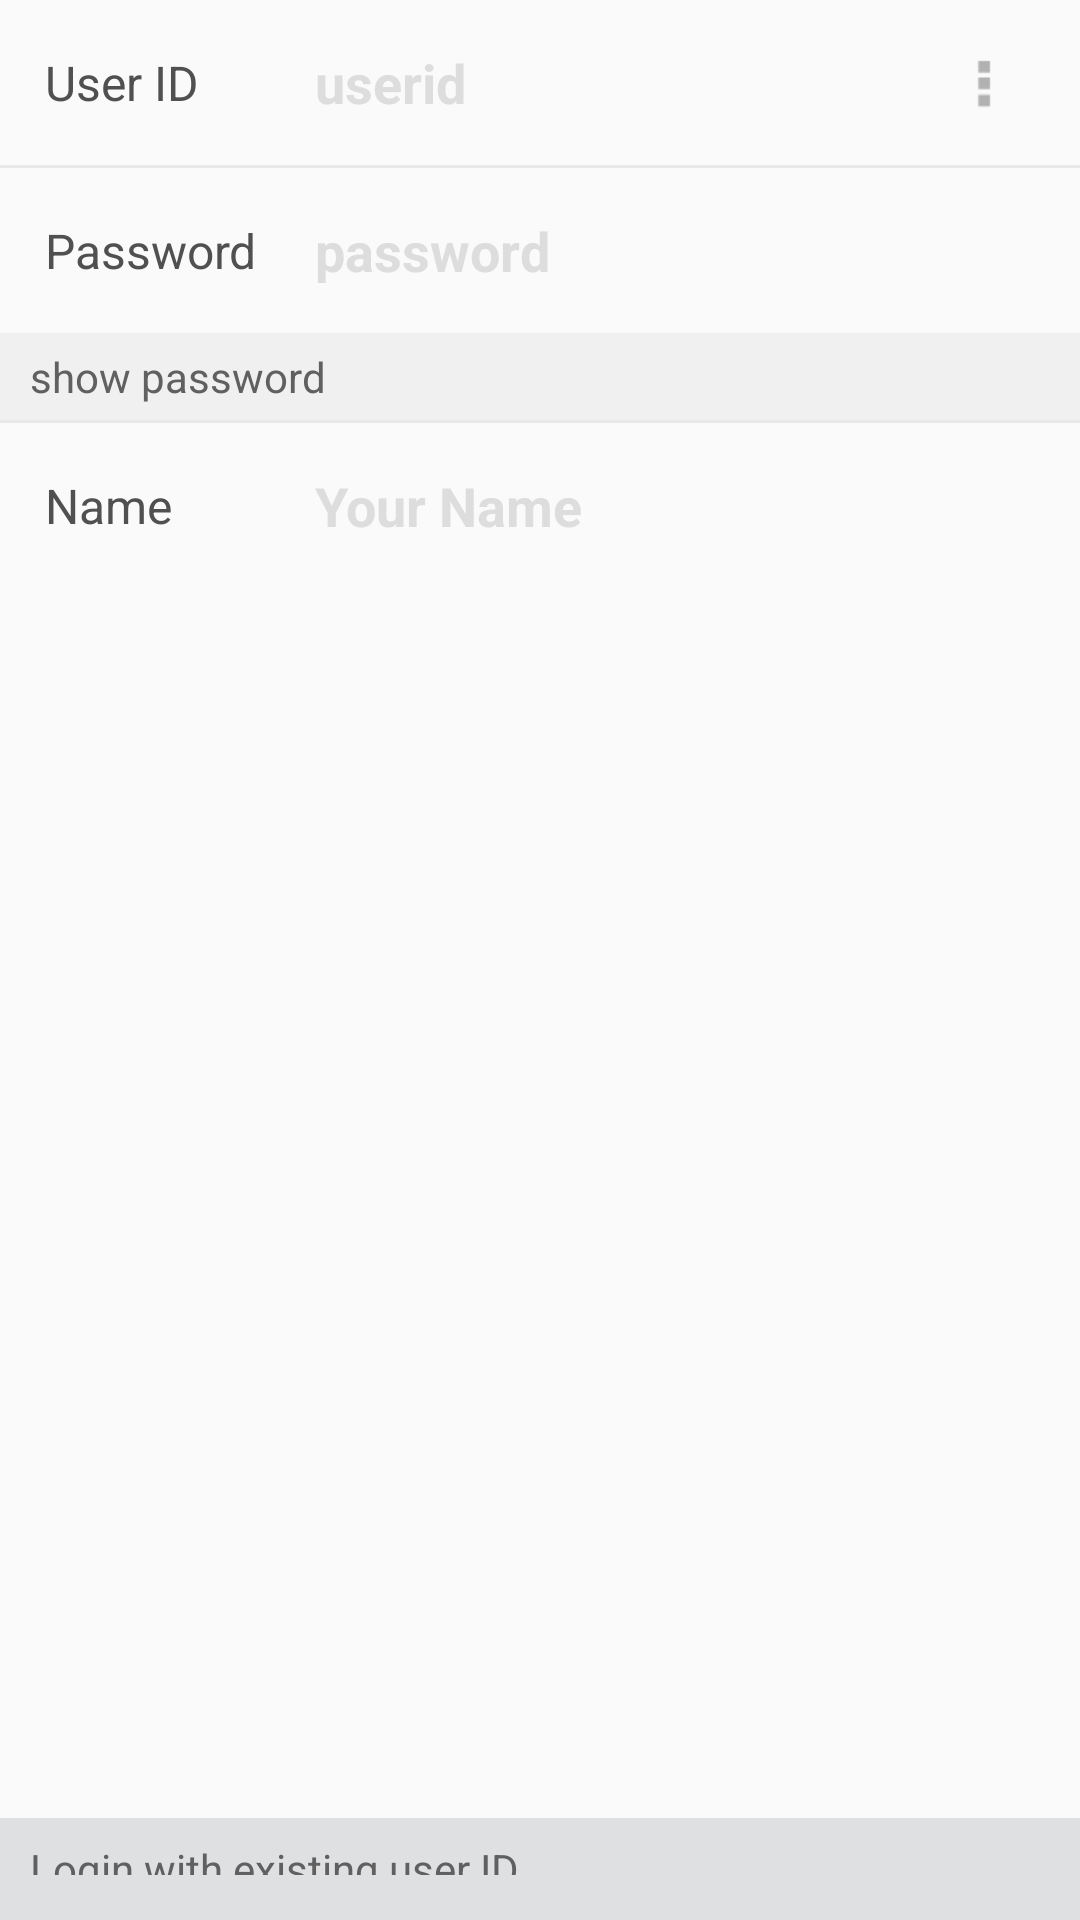

Where icons sit on this 1080 x 1920 app screen, as (x1, y1, x2, y2):
overflow: (978, 61, 990, 107)
